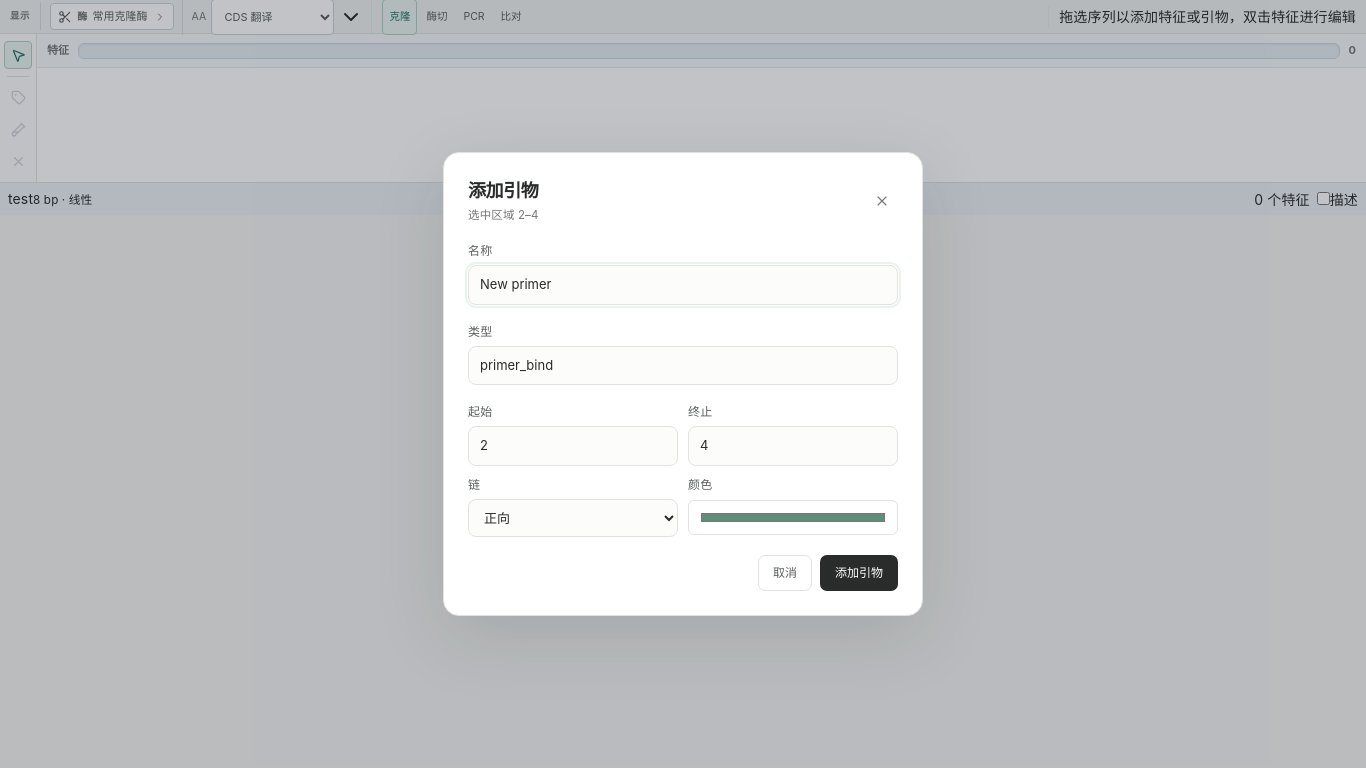
Scenario: OveEditorHost › saves a primer created from the selected region into the canonical document
Replace the text in the field labelled "名称" with "Reverse primer": (683, 285) top-left (468, 265), bottom-right (898, 305)
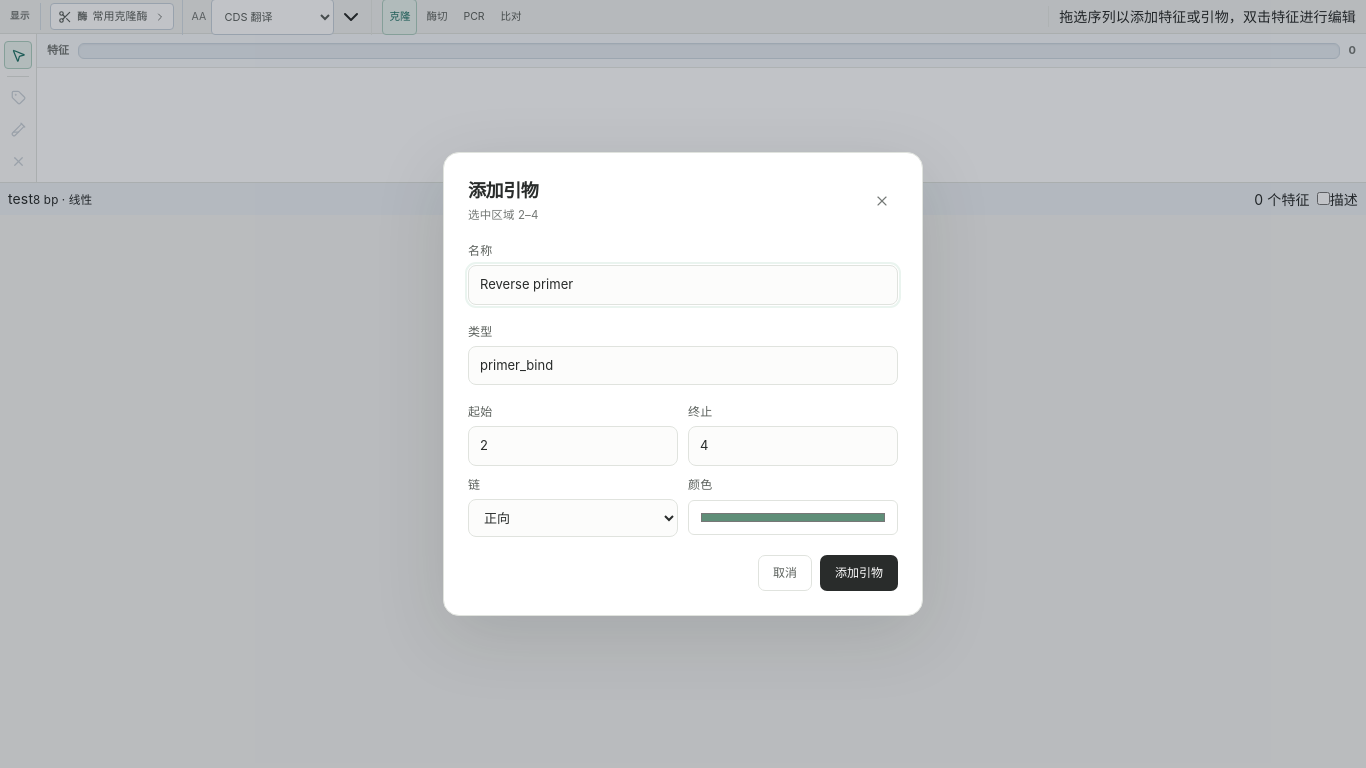
Select "反向" in the dropdown labelled "链": (573, 518) top-left (468, 499), bottom-right (678, 537)
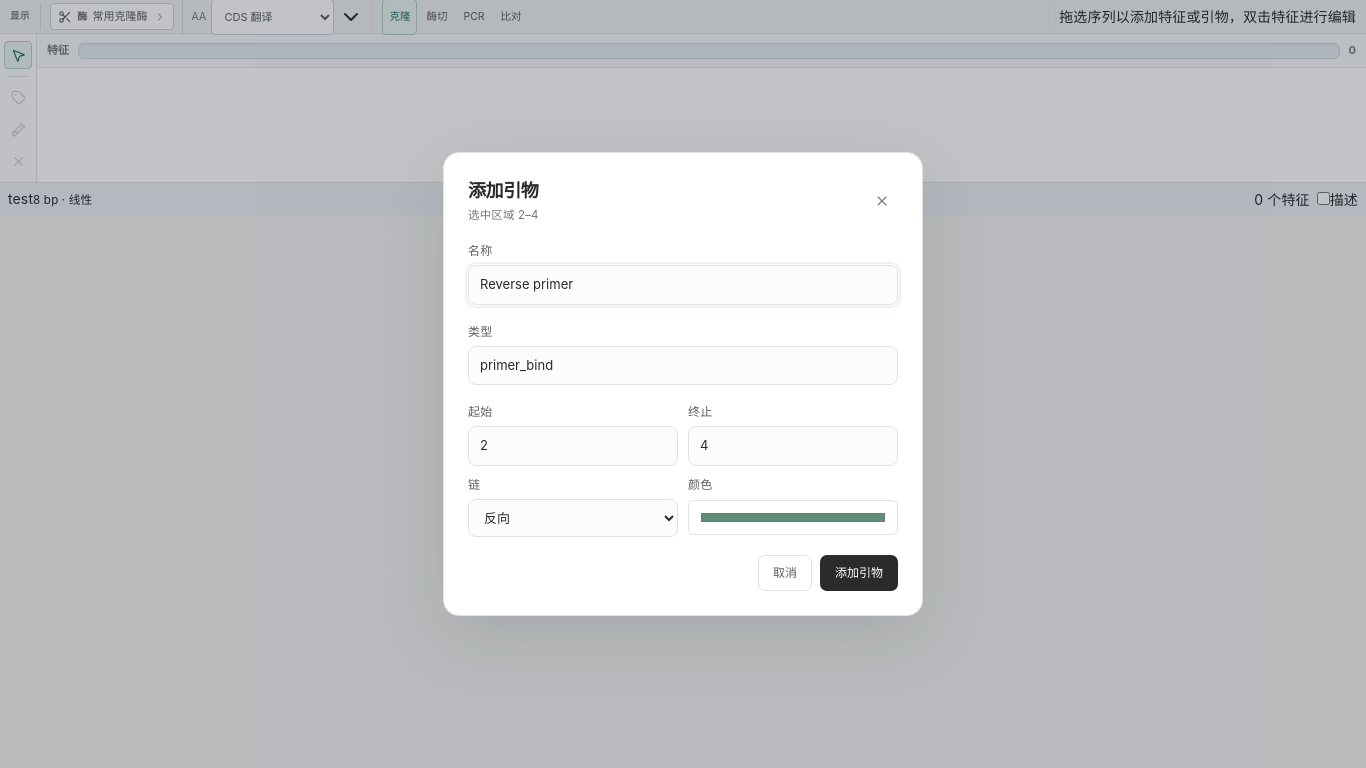
Click the button "添加引物": click(859, 573) top-left (820, 555), bottom-right (898, 591)
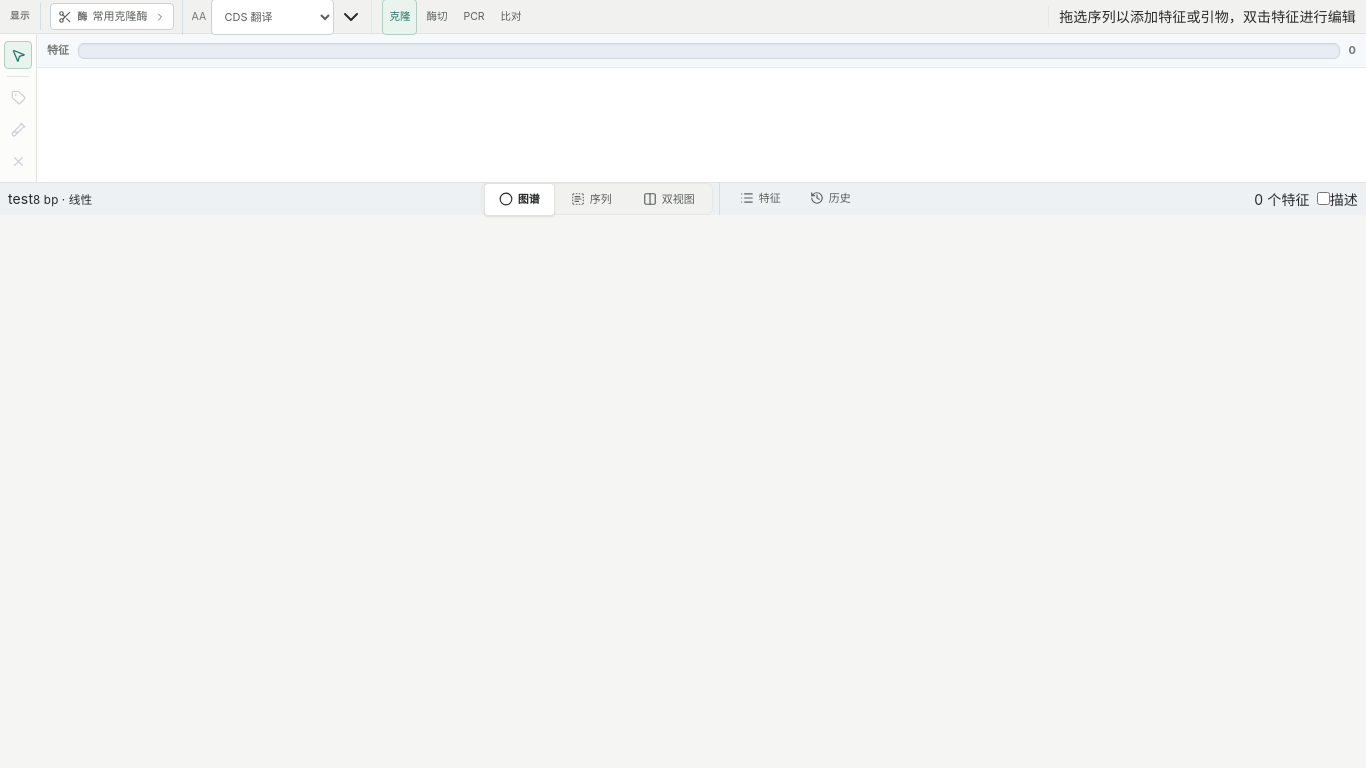
Check: the heading "添加引物" is gone
